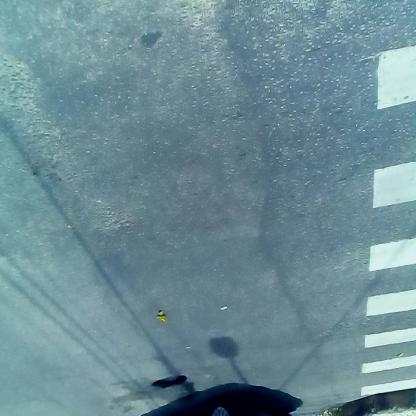crosswalk: (359, 28, 416, 404)
